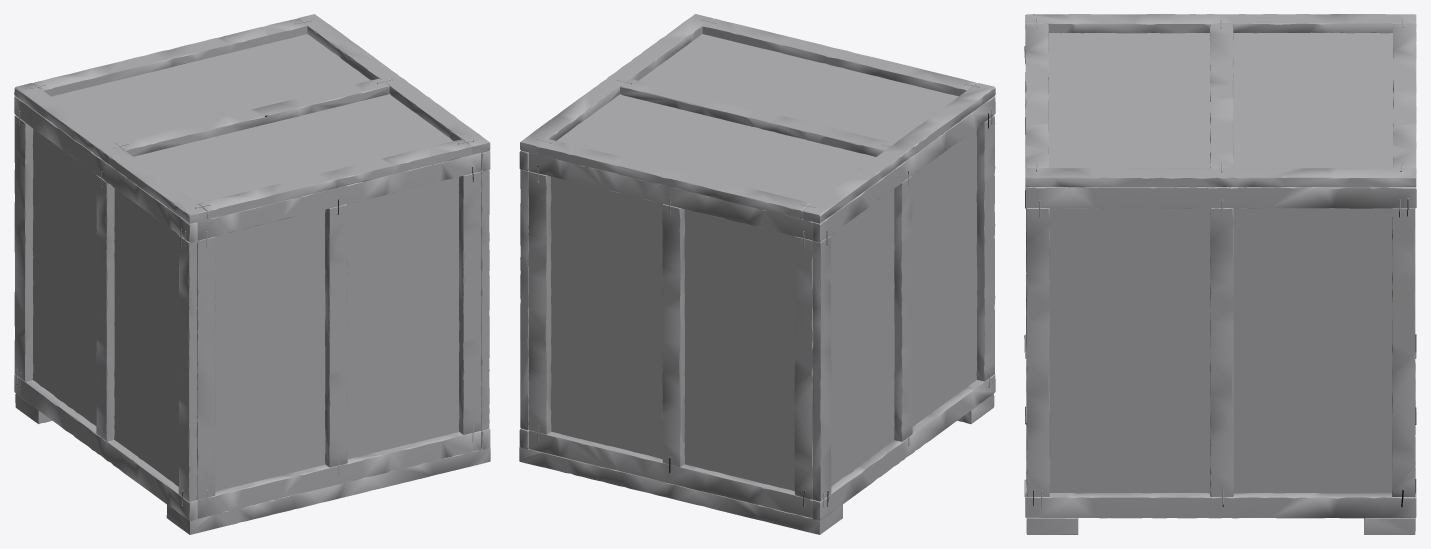
File: crate_plywood_b01.glb
3 renders of one model, left to right at view 1: azimuth 30°, elevation 25°; view 2: azimuth 150°, elevation 25°; view 3: azimuth 270°, elevation 25°, orthographic. The views are drawn at different scales.
Parts seen in each view (by area): view 1: crate_plywood_b01_lod1; view 2: crate_plywood_b01_lod1; view 3: crate_plywood_b01_lod1.
Part boxes in pixels (x1=…): crate_plywood_b01_lod1: x1=14, y1=14, x2=490, y2=534; crate_plywood_b01_lod1: x1=519, y1=14, x2=995, y2=534; crate_plywood_b01_lod1: x1=1024, y1=14, x2=1416, y2=534.
Bounding box in the file's own units: 1 × 1.02 × 1.01.
Materials: 1 (1 with a texture image).
